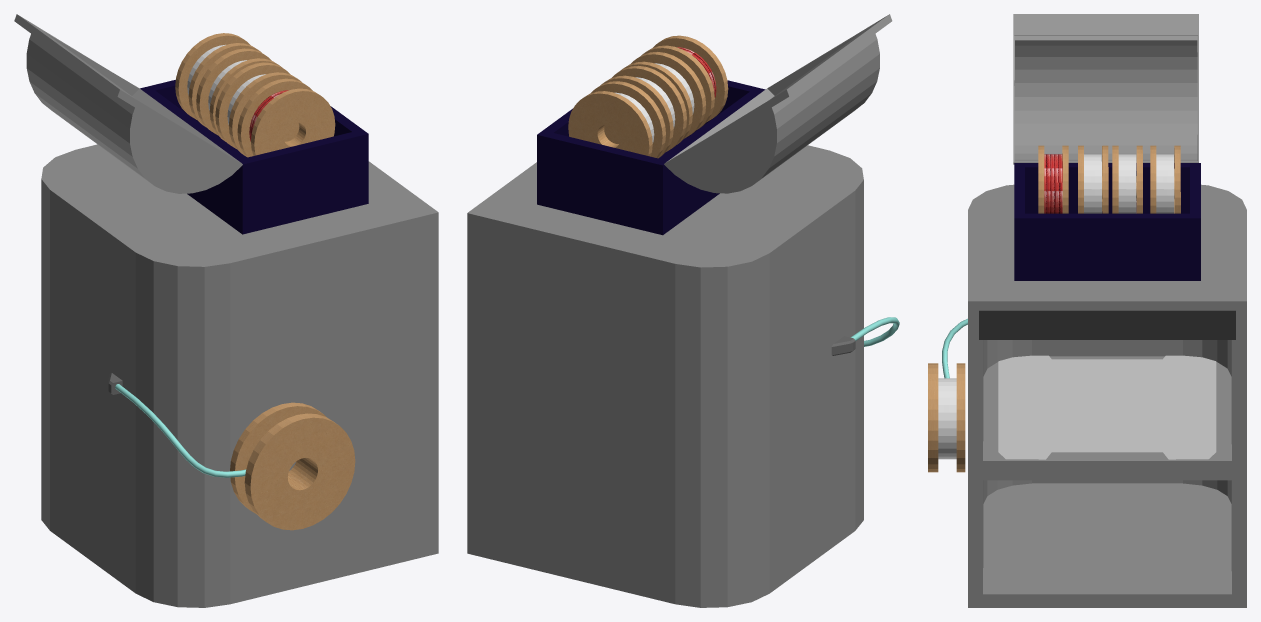
The model's file is impresora.fbx.
3 renders of one model, left to right at view 1: azimuth 30°, elevation 25°; view 2: azimuth 150°, elevation 25°; view 3: azimuth 270°, elevation 25°, orthographic. The views are drawn at different scales.
Parts seen in each view (by area): view 1: carcasa, caja, caja.001, filamentoCostado.001, filamento, BézierCurve; view 2: carcasa, caja, caja.001, filamento, BézierCurve; view 3: carcasa, caja, cama, caja.001, ejesYdispenser, filamento, filamentoCostado.001, filamento.005, filamento.001, filamento.003, filamento.004, filamento.002.
Part boxes in pixels (box(x1,y1,x2,y2)): carcasa: box(41, 144, 438, 607); caja: box(14, 14, 242, 193); caja.001: box(140, 80, 368, 234); filamentoCostado.001: box(230, 402, 355, 530); filamento: box(175, 33, 335, 157); BézierCurve: box(115, 384, 246, 477); carcasa: box(467, 145, 863, 607); caja: box(664, 14, 892, 193); caja.001: box(537, 80, 765, 235); filamento: box(568, 35, 728, 158); BézierCurve: box(850, 317, 899, 346); carcasa: box(968, 184, 1246, 607); caja: box(1013, 14, 1198, 164); cama: box(998, 355, 1216, 459); caja.001: box(1014, 163, 1200, 280); ejesYdispenser: box(979, 310, 1235, 339); filamento: box(1038, 145, 1180, 213); filamentoCostado.001: box(928, 363, 965, 472); filamento.005: box(938, 378, 956, 459); filamento.001: box(1044, 154, 1062, 213); filamento.003: box(1118, 154, 1136, 213); filamento.004: box(1156, 154, 1174, 213); filamento.002: box(1084, 154, 1101, 213).
Size of the model in its own units: 161 by 267 by 166.
